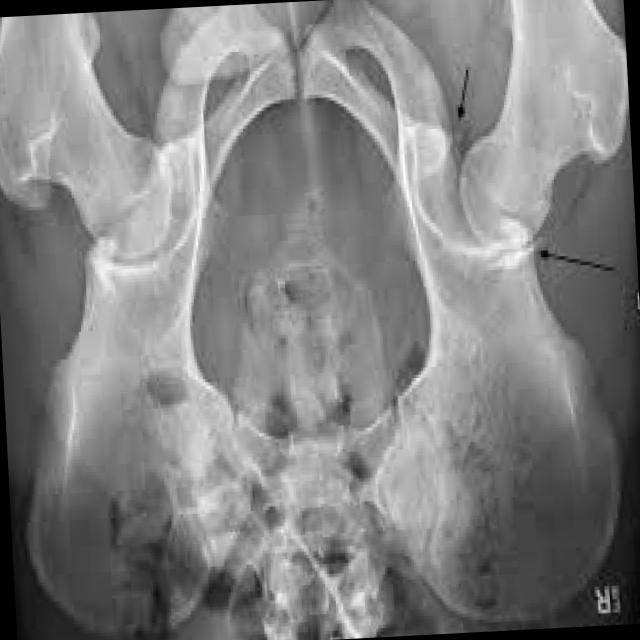normal-left: (0, 12, 174, 260)
right-dislocation: (457, 0, 628, 249)
